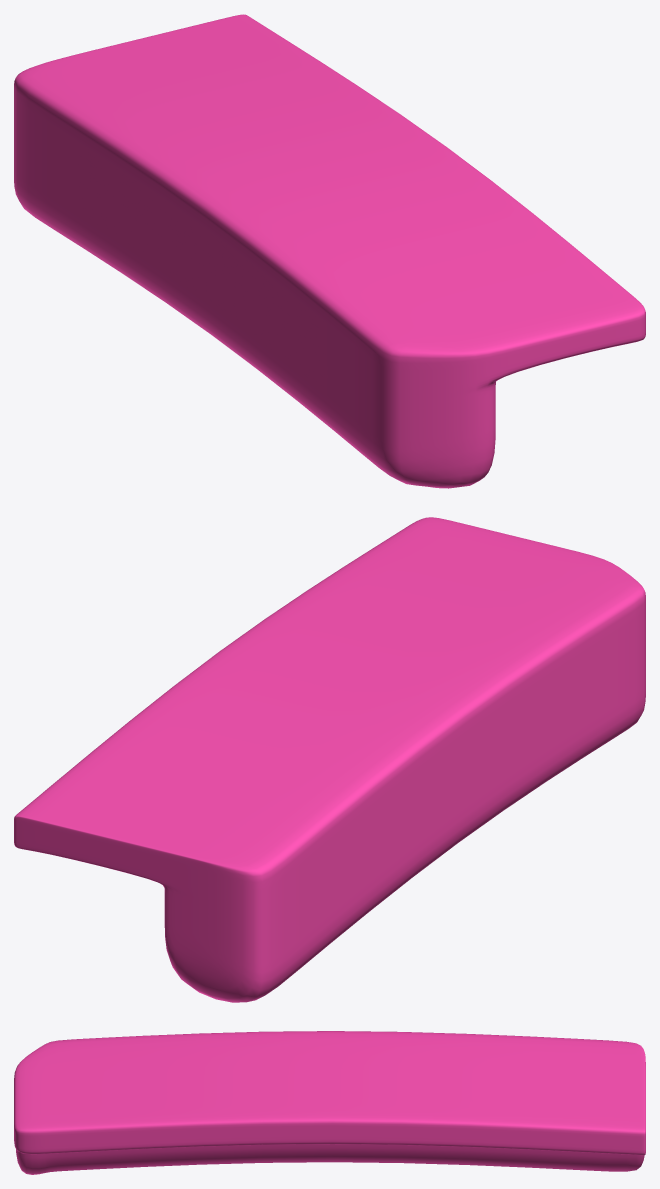
File: BrokenWallPart3.fbx
The picture shows the model from 3 angles, top to bottom: view 1: azimuth 30°, elevation 25°; view 2: azimuth 150°, elevation 25°; view 3: azimuth 270°, elevation 25°; orthographic projection. The views are drawn at different scales.
Visible parts, largest first — view 1: Plane.003; view 2: Plane.003; view 3: Plane.003.
Boxes of the visible parts, x1,y1,x2,y2 form: Plane.003: [14, 14, 645, 488]; Plane.003: [14, 517, 645, 1002]; Plane.003: [14, 1031, 645, 1174].
Bounding box in the file's own units: 150 × 92.37 × 434.
